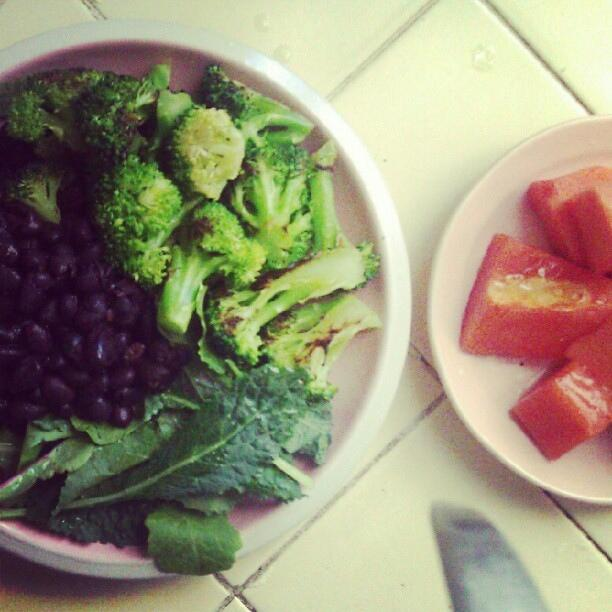broccoli: (204, 241, 367, 366), (96, 154, 206, 288), (226, 126, 320, 270), (262, 294, 381, 404), (156, 201, 248, 334), (302, 168, 382, 292), (199, 62, 315, 146), (0, 68, 103, 152), (78, 64, 170, 156), (164, 104, 246, 200), (0, 161, 75, 225), (138, 88, 194, 170)
tomato: (459, 234, 612, 366), (507, 317, 612, 460), (525, 166, 611, 268)
